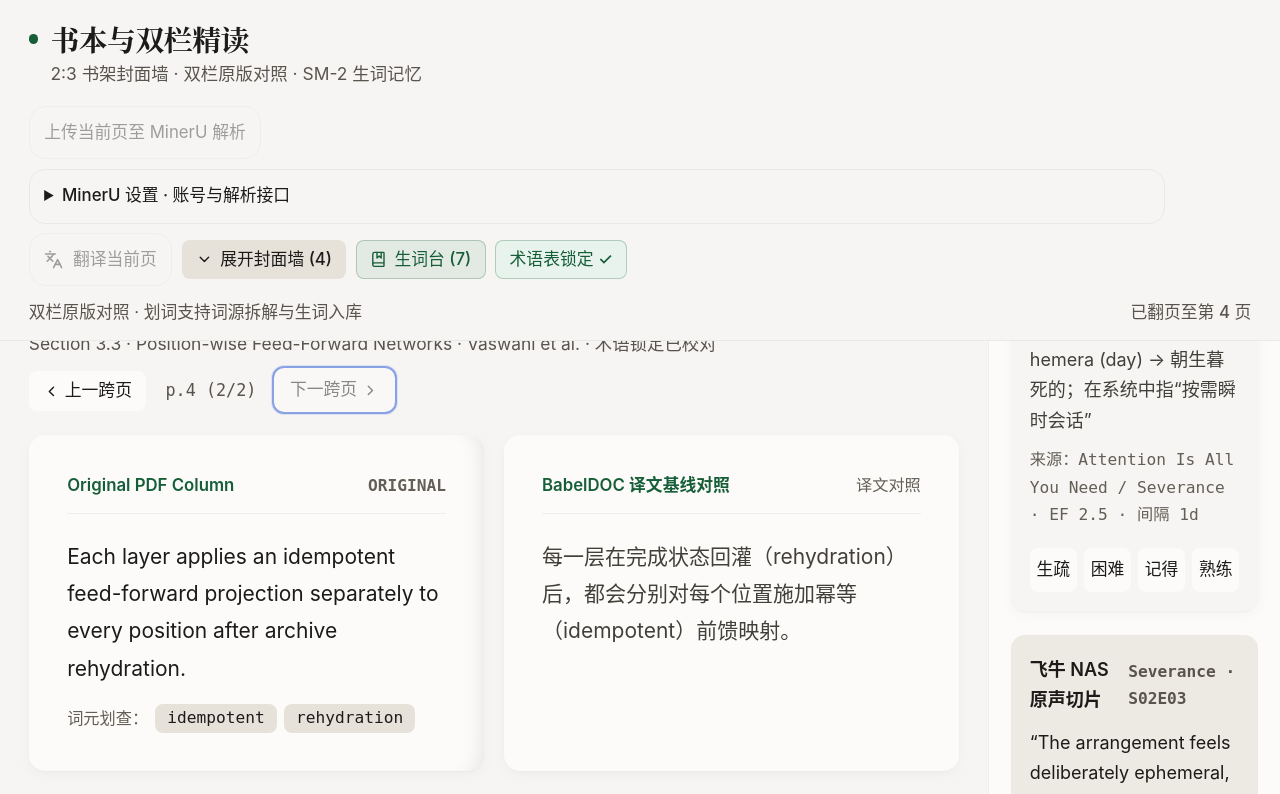
Test: BookWorkbench › supports SelectionBubble in left original column, adds to VocabSm2Panel, and preserves spread/SM-2 behavior
Earlier steps of the test are not shown.
(page scrolled)
Expected: the text "p.4 (2/2)" is shown, [166, 380, 256, 400]
Click the button "记得" at (1162, 570), box [1138, 548, 1185, 592]
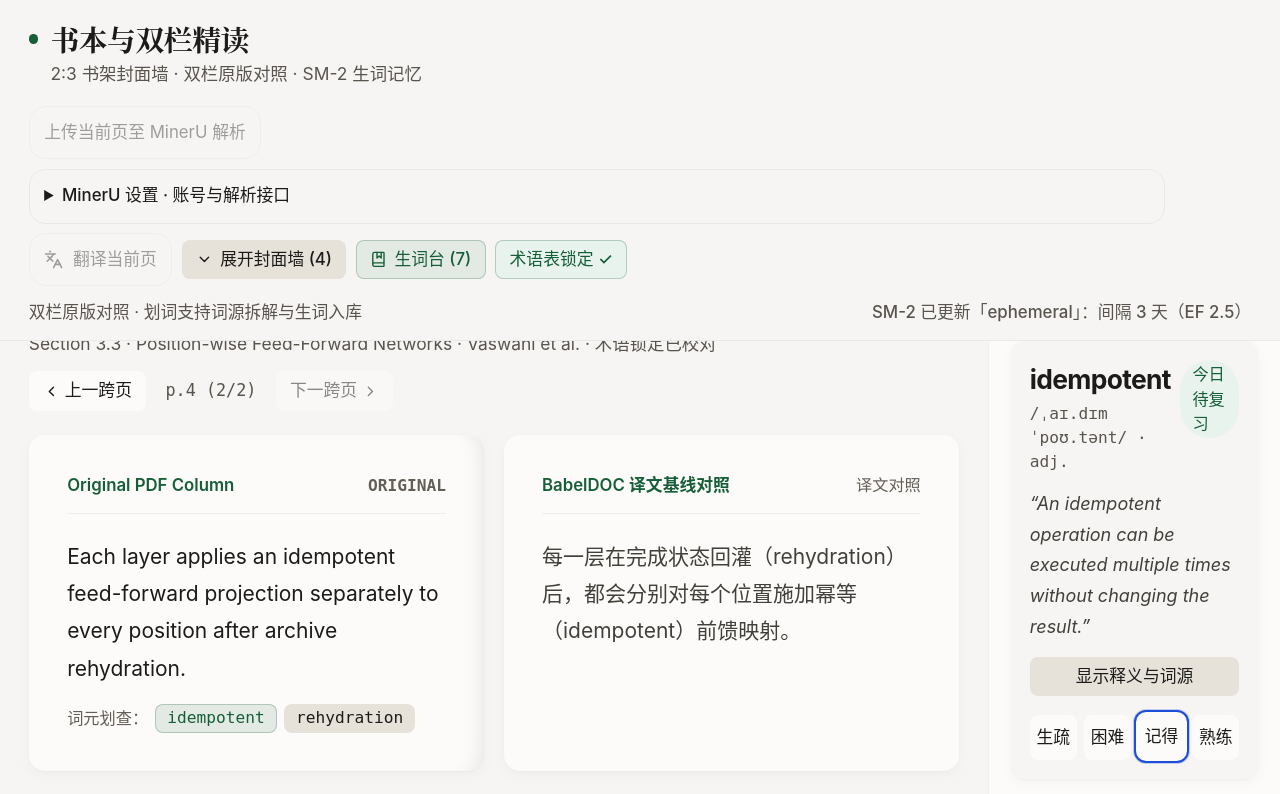
Result: the text with test id "book-status-message" shows "SM-2 已更新" at [872, 302, 1251, 322]
